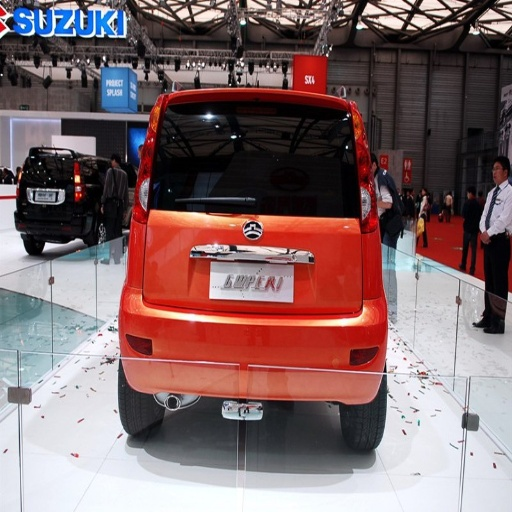back_bumper: (130, 236, 385, 397)
trunk: (133, 210, 360, 369)
